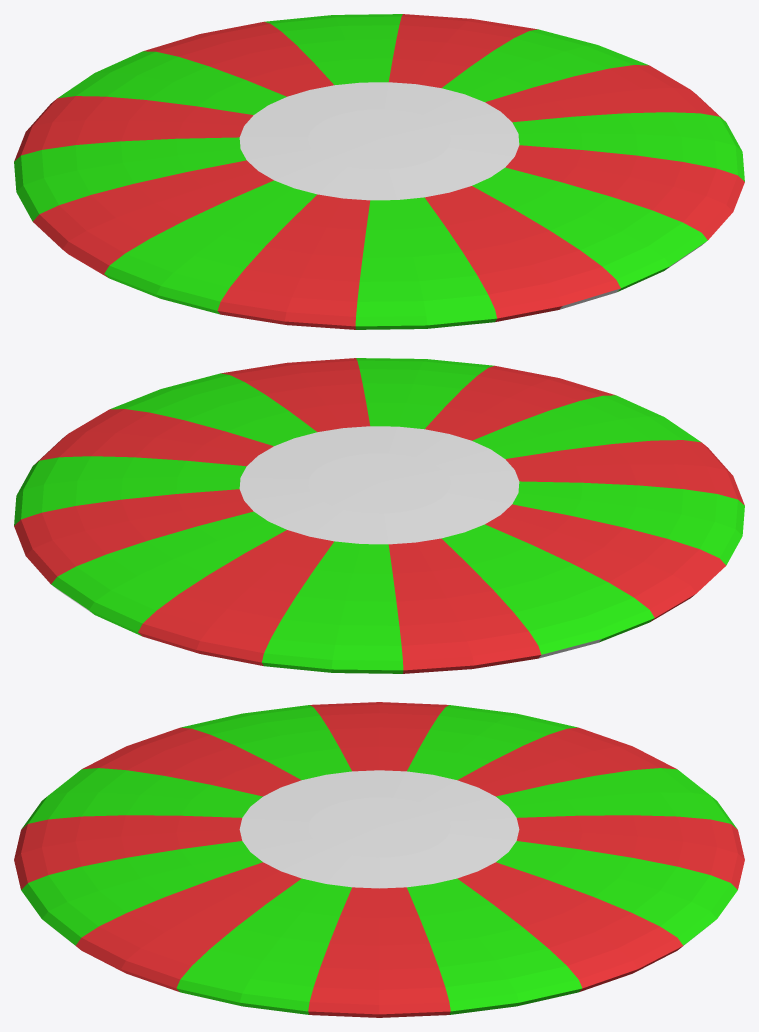
The model's file is spinning wheel 1.fbx.
The picture shows the model from 3 angles, top to bottom: view 1: azimuth 30°, elevation 25°; view 2: azimuth 150°, elevation 25°; view 3: azimuth 270°, elevation 25°; orthographic projection.
Visible parts, largest first — view 1: Sphere; view 2: Sphere; view 3: Sphere.
Boxes of the visible parts, x1=… form: Sphere: x1=14, y1=14, x2=744, y2=329; Sphere: x1=14, y1=358, x2=744, y2=673; Sphere: x1=14, y1=702, x2=744, y2=1017.
Size of the model in its own units: 200 by 20 by 200.
